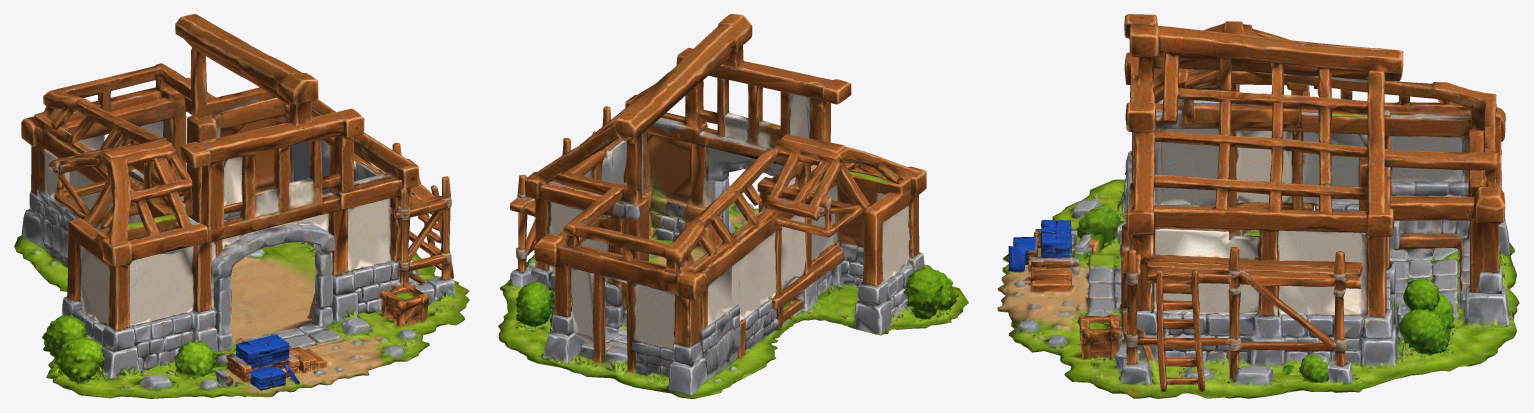
Rendered from cuartel_e2.glb.
The picture shows the model from 3 angles, left to right: view 1: azimuth 30°, elevation 25°; view 2: azimuth 150°, elevation 25°; view 3: azimuth 270°, elevation 25°; orthographic projection. The views are drawn at different scales.
Size of the model in its own units: 1.9 by 1.14 by 1.89.
1 material, 1 textured.
